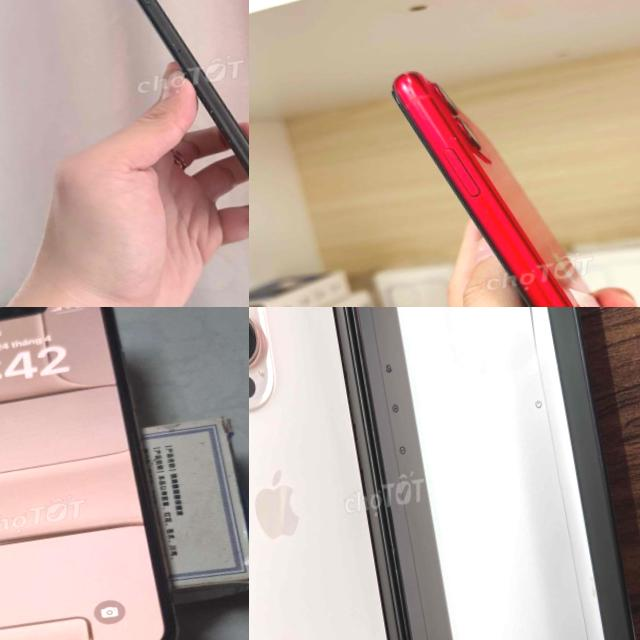gen_16: (249, 307, 389, 640)
gen_7_8: (101, 0, 249, 237)
gen_x_xs: (0, 307, 184, 640)
scratch: (388, 33, 640, 307), (205, 101, 249, 178), (130, 0, 156, 9), (169, 35, 179, 48)
